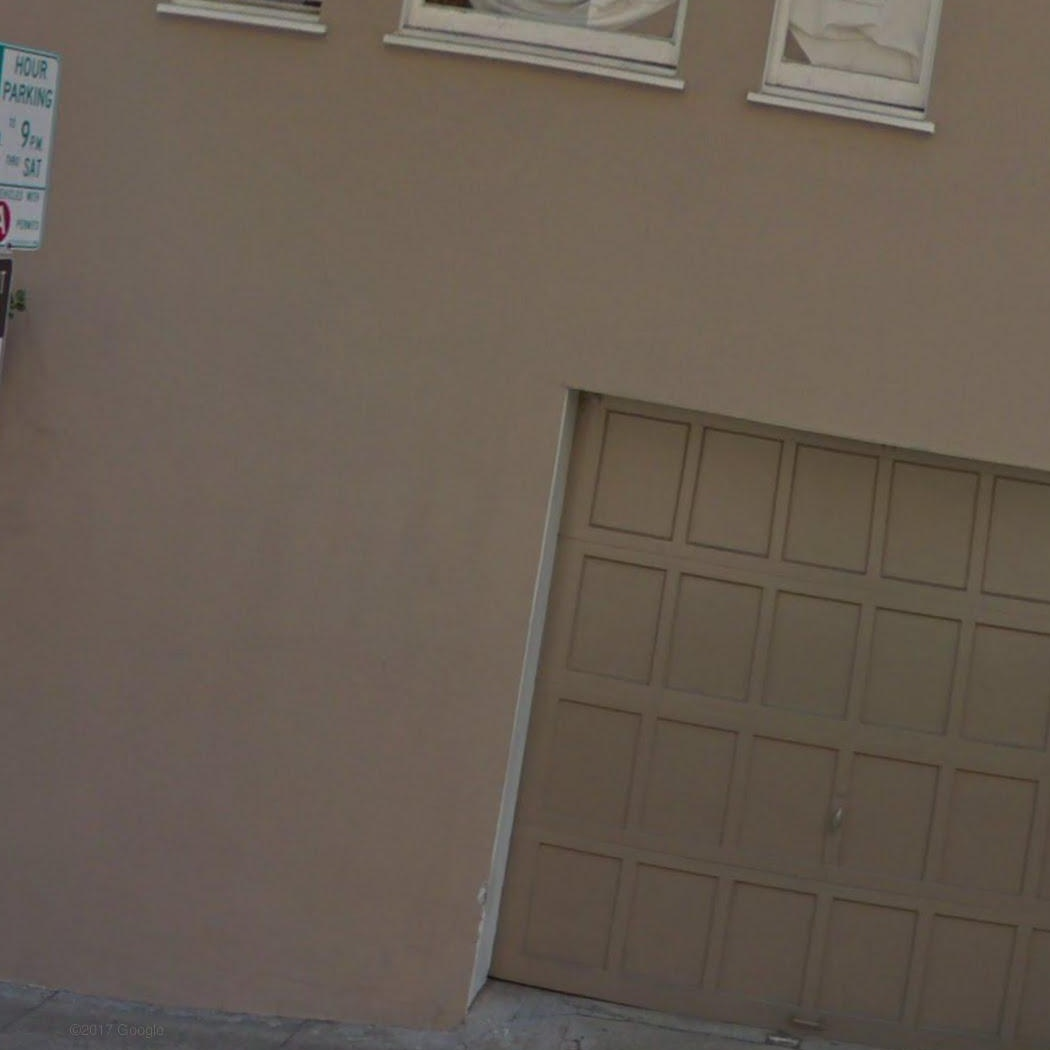2 Hour Parking: (0, 41, 61, 252)
